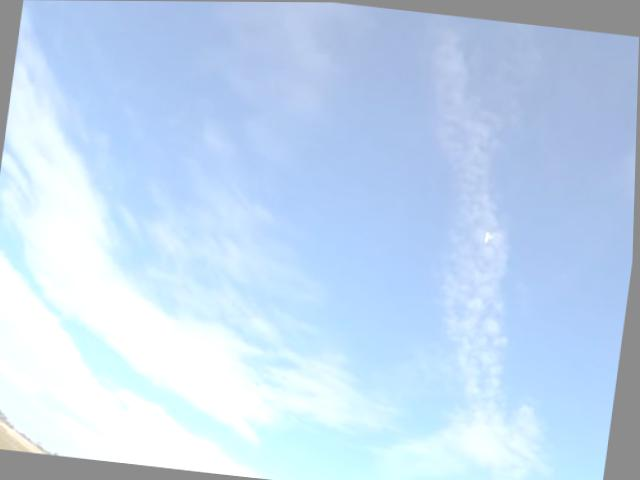uav: (478, 225, 501, 248)
